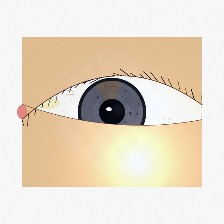pinguecula_lesion: (25, 85, 71, 122)
